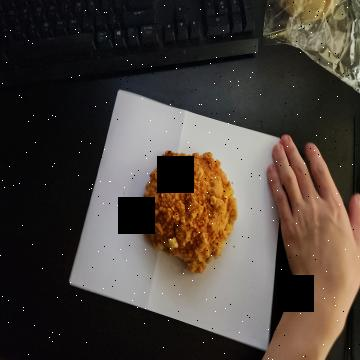soboru_bread: (142, 148, 238, 278)
